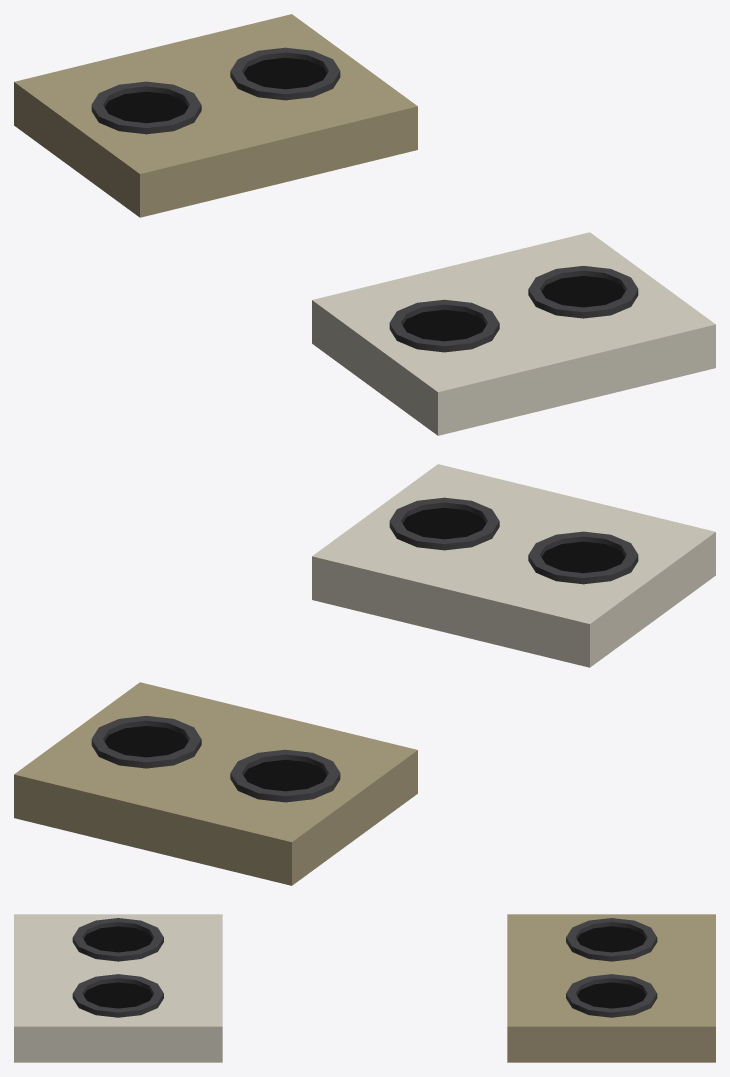
File: pax100_climate.obj
The picture shows the model from 3 angles, top to bottom: view 1: azimuth 30°, elevation 25°; view 2: azimuth 150°, elevation 25°; view 3: azimuth 270°, elevation 25°; orthographic projection. The views are drawn at different scales.
Parts seen in each view (by area): view 1: pax100_climate; view 2: pax100_climate; view 3: pax100_climate.
Boxes of the visible parts, x1,y1,x2,y2 form: pax100_climate: (14, 14, 715, 435); pax100_climate: (14, 464, 715, 885); pax100_climate: (14, 914, 715, 1062).
Bounding box in the file's own units: 2.8 × 0.48 × 7.4.
